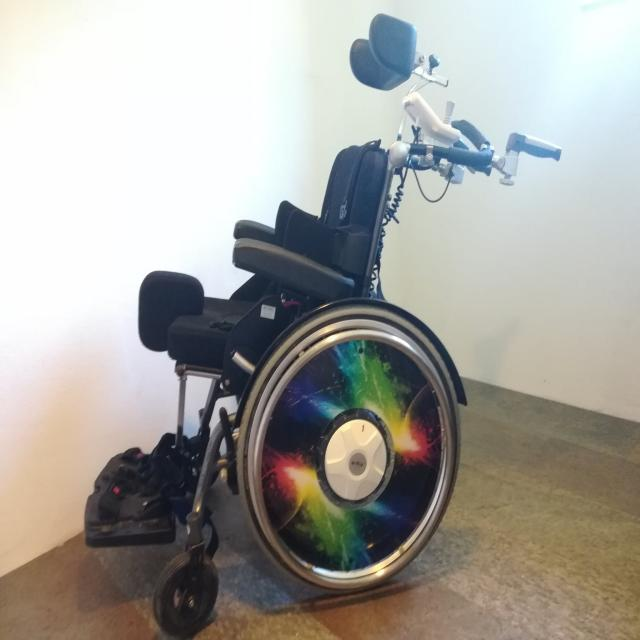wheelchairs: (83, 15, 562, 638)
